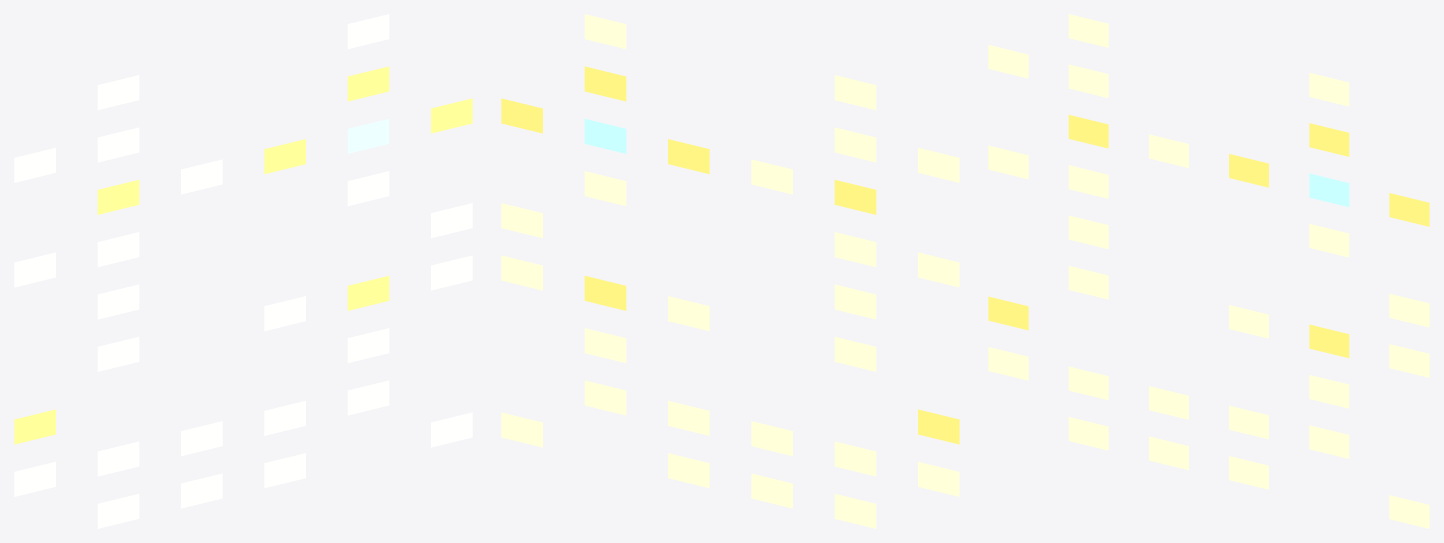
File: window-lights-10.glb
The picture shows the model from 3 angles, left to right: view 1: azimuth 30°, elevation 25°; view 2: azimuth 150°, elevation 25°; view 3: azimuth 330°, elevation 25°; orthographic projection. The views are drawn at different scales.
Visible parts, largest first — view 1: window warm, window amber, window tv; view 2: window warm, window amber, window tv; view 3: window warm, window amber, window tv.
Boxes of the visible parts, x1,y1,x2,y2 form: window warm: [14, 14, 472, 528]; window amber: [14, 66, 472, 444]; window tv: [347, 119, 389, 153]; window warm: [501, 14, 959, 528]; window amber: [501, 66, 959, 444]; window tv: [584, 119, 626, 153]; window warm: [988, 14, 1429, 528]; window amber: [988, 115, 1429, 358]; window tv: [1309, 173, 1349, 206].
Size of the model in its own units: 0.9167 by 0.848 by 0.
